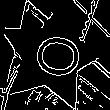O_W: (22, 31, 81, 83)
